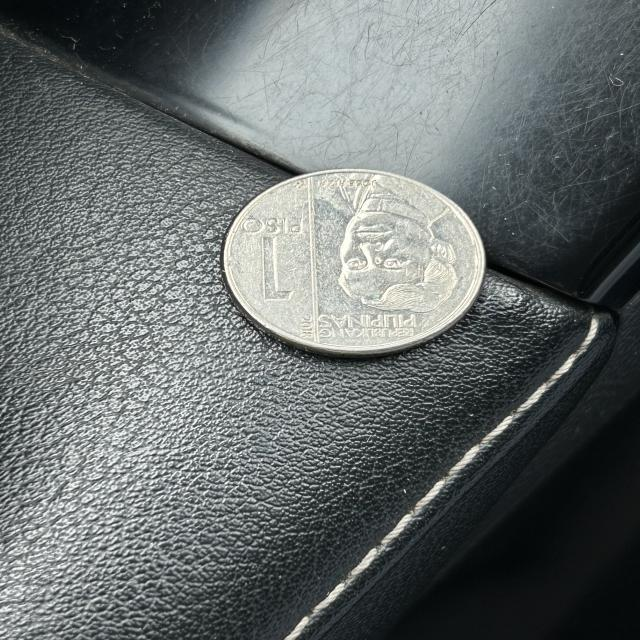1_New_Front: (242, 213, 306, 319)
